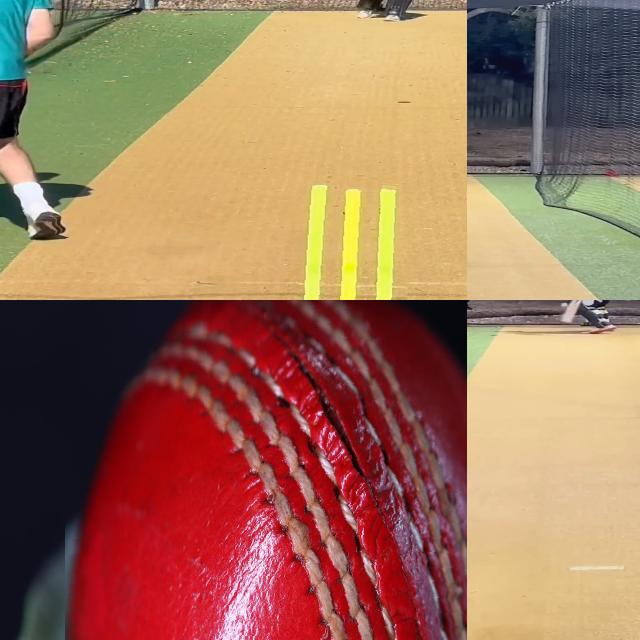Cricket ball: (64, 300, 467, 640), (560, 302, 568, 307)
Stumps: (291, 181, 414, 300)
